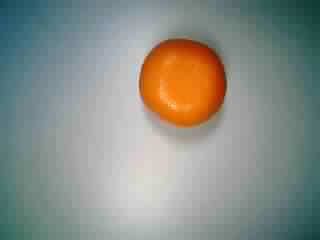orange: (130, 35, 231, 130)
